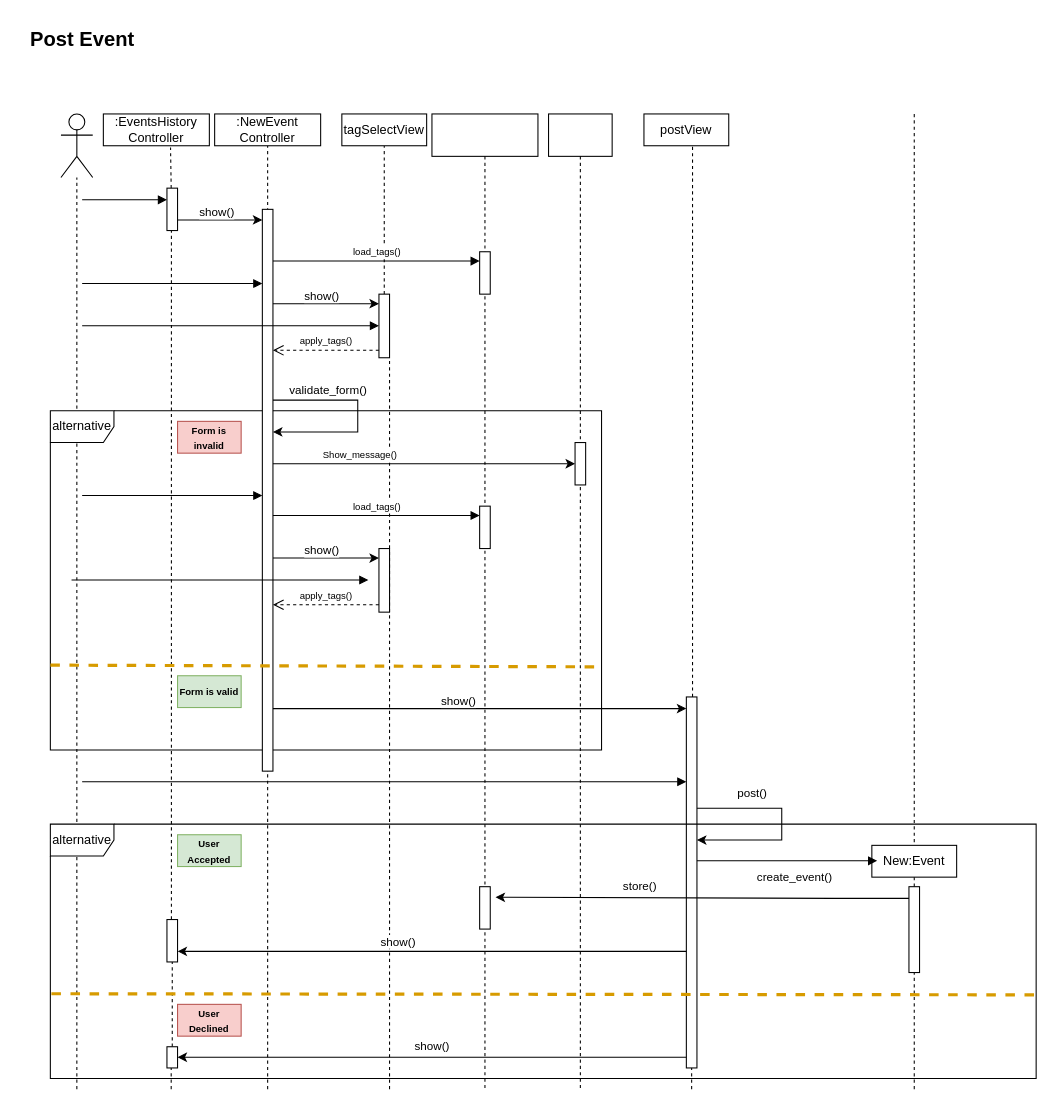
Image size: 1056x1109. Some labels were removed from this diagram. Here are the shapes that lost their labels. From the top down, the box of each, then its label:
(431, 113, 538, 1089): :DBcommunicator
(547, 113, 612, 1089): Error Message
